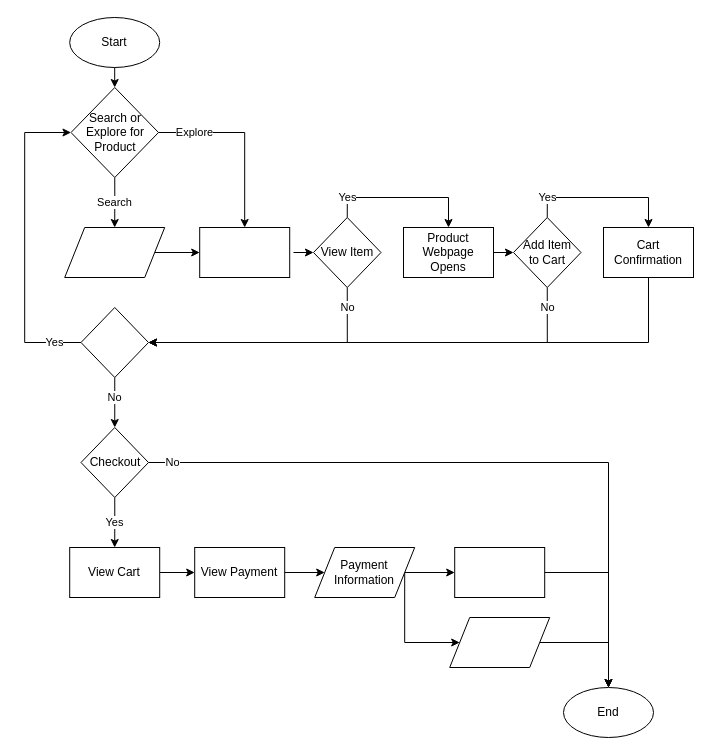
This 711x755 diagram has some shape labels left out. The shapes that lost their labels are listed below. From the top down, each one's centre as x and y in pixels, then its label:
At point (114, 252): "Search Input".
At point (244, 252): "Look over Products".
At point (114, 342): "Continue".
At point (499, 572): "Confirmation Screen".
At point (499, 642): "Confirmation Email".
